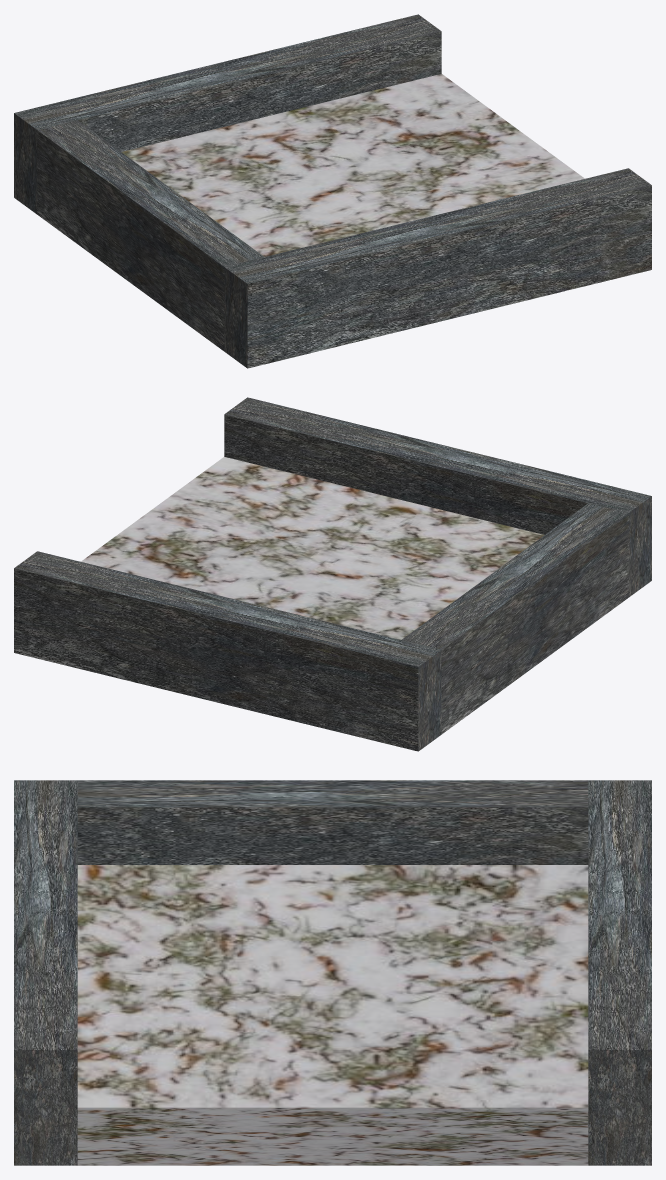
File: End.glb
The picture shows the model from 3 angles, top to bottom: view 1: azimuth 30°, elevation 25°; view 2: azimuth 150°, elevation 25°; view 3: azimuth 270°, elevation 25°; orthographic projection. The views are drawn at different scales.
Parts seen in each view (by area): view 1: Cube.001, End, Cube.002, Cube.003; view 2: Cube.002, End, Cube.001, Cube.003; view 3: End, Cube.003, Cube.001, Cube.002.
Boxes of the visible parts, box(x1,y1,x2,y2) form: Cube.001: box(224, 168, 651, 368); End: box(121, 74, 584, 256); Cube.002: box(14, 14, 441, 214); Cube.003: box(37, 120, 263, 351); Cube.002: box(14, 551, 441, 751); End: box(81, 457, 544, 639); Cube.001: box(224, 397, 651, 597); Cube.003: box(402, 503, 628, 734); End: box(77, 865, 588, 1165); Cube.003: box(77, 780, 588, 864); Cube.001: box(14, 780, 77, 1165); Cube.002: box(588, 780, 651, 1165).
Bounding box in the file's own units: 1 × 0.2 × 1.
2 materials, 2 textured.
